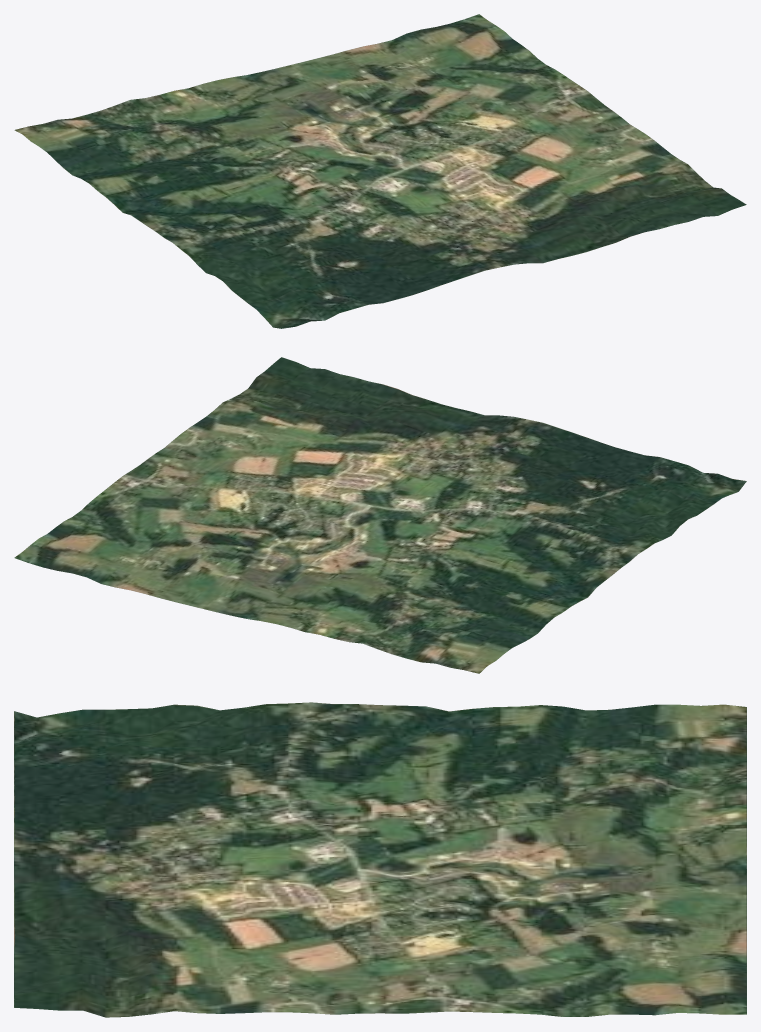
The picture shows the model from 3 angles, top to bottom: view 1: azimuth 30°, elevation 25°; view 2: azimuth 150°, elevation 25°; view 3: azimuth 270°, elevation 25°; orthographic projection. The views are drawn at different scales.
Bounding box in the file's own units: 3902 × 122 × 3885.
Materials: 1 (1 with a texture image).
